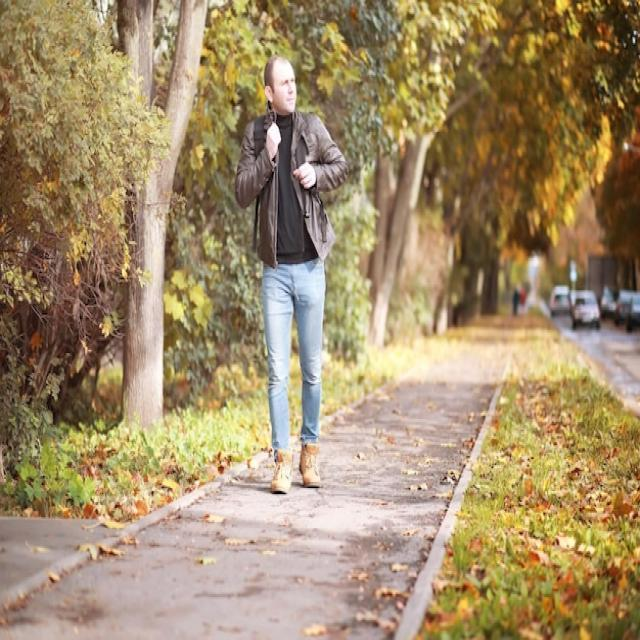person: (222, 36, 351, 498)
